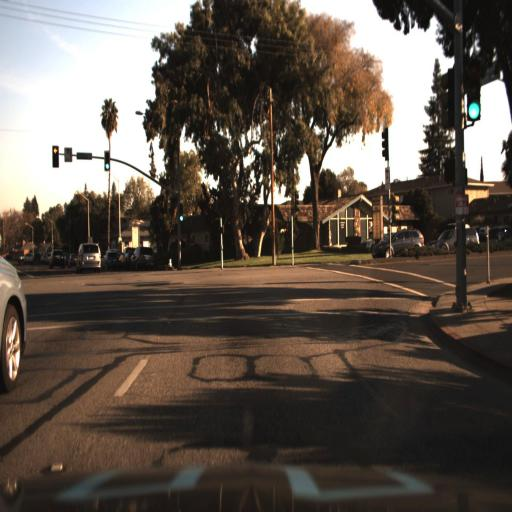car: (0, 213, 34, 436), (0, 230, 26, 424), (367, 223, 428, 268), (427, 221, 481, 259), (364, 225, 426, 257), (429, 224, 479, 252), (75, 240, 103, 277), (46, 242, 71, 278), (132, 241, 156, 273), (101, 247, 123, 275), (102, 246, 122, 274), (47, 248, 67, 272)
trafficLight-Green: (103, 150, 111, 172), (177, 202, 184, 224), (177, 207, 184, 228), (102, 158, 109, 176)
trafficLight-RedLeft: (50, 143, 59, 168), (51, 140, 58, 172)
